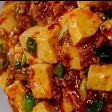mapodoufu: (0, 0, 112, 112)
